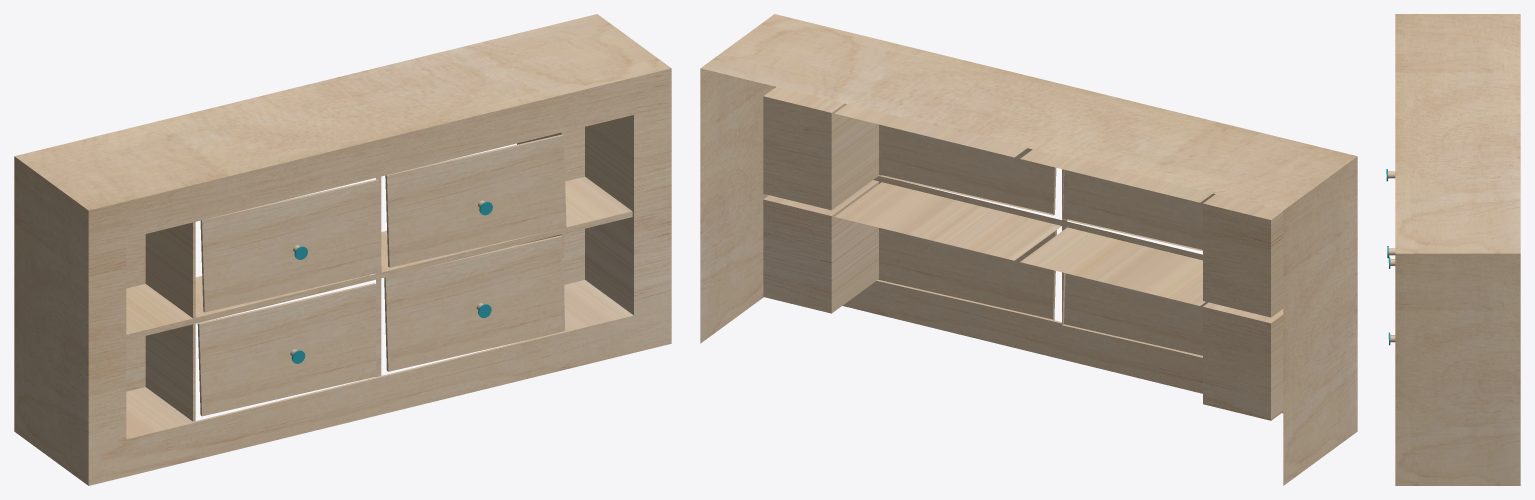
File: alacenaHorizontal.obj
3 views of the same model, side by side, from view 1: azimuth 30°, elevation 25°; view 2: azimuth 150°, elevation 25°; view 3: azimuth 270°, elevation 25° (orthographic). The views are drawn at different scales.
Visible parts, largest first — view 1: polySurface29; view 2: polySurface29; view 3: polySurface29.
Part boxes in pixels (box(x1,y1,x2,y2)): polySurface29: box(14, 14, 671, 485); polySurface29: box(700, 14, 1357, 485); polySurface29: box(1386, 14, 1520, 485).
Bounding box in the file's own units: 5.16 × 2.33 × 1.22.
2 materials, 2 textured.
